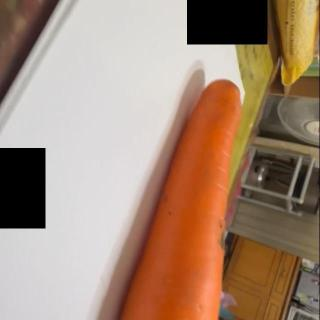carrot: (115, 79, 244, 320)
